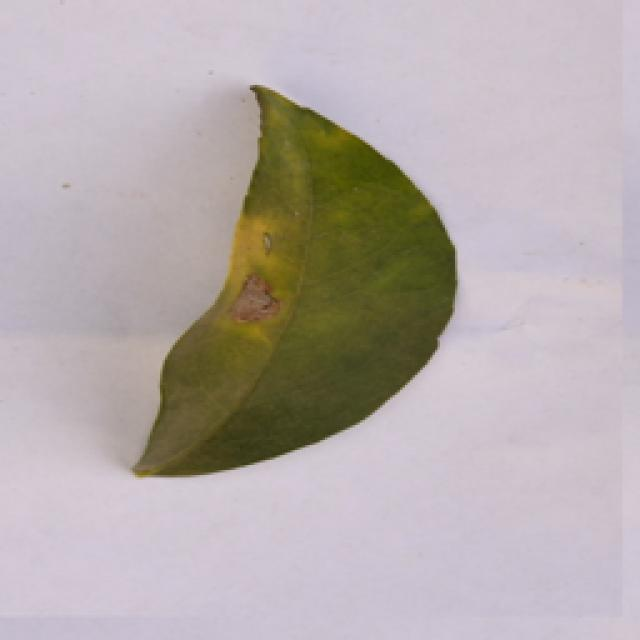canker: (113, 103, 466, 469)
